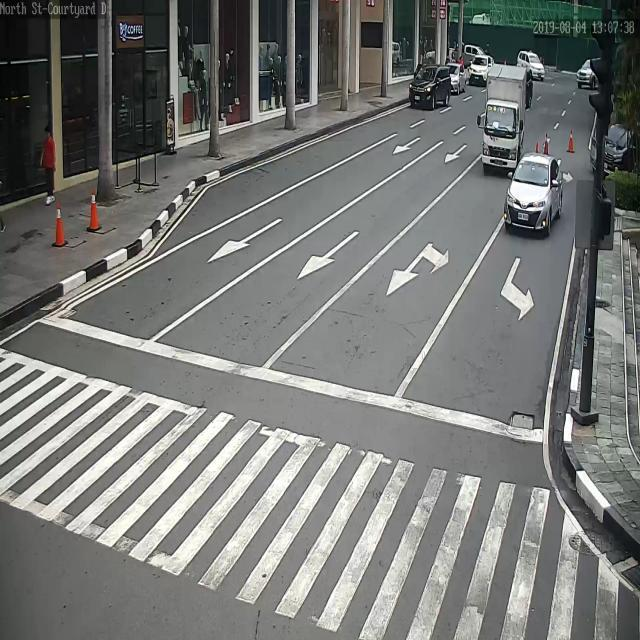car: (503, 151, 563, 232), (409, 61, 450, 111), (606, 118, 640, 173), (517, 50, 546, 79), (469, 53, 493, 88), (577, 55, 599, 88), (446, 60, 466, 94)
motorcycle: (482, 64, 525, 171)
